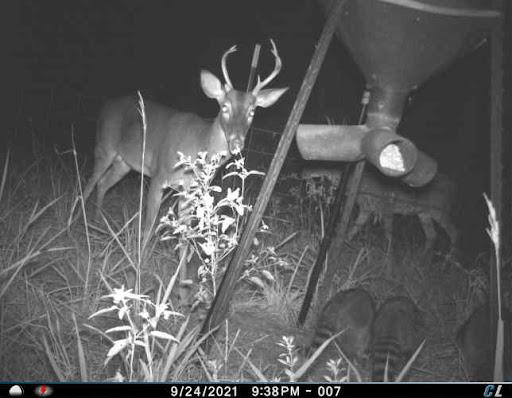Deer: (67, 35, 292, 271)
